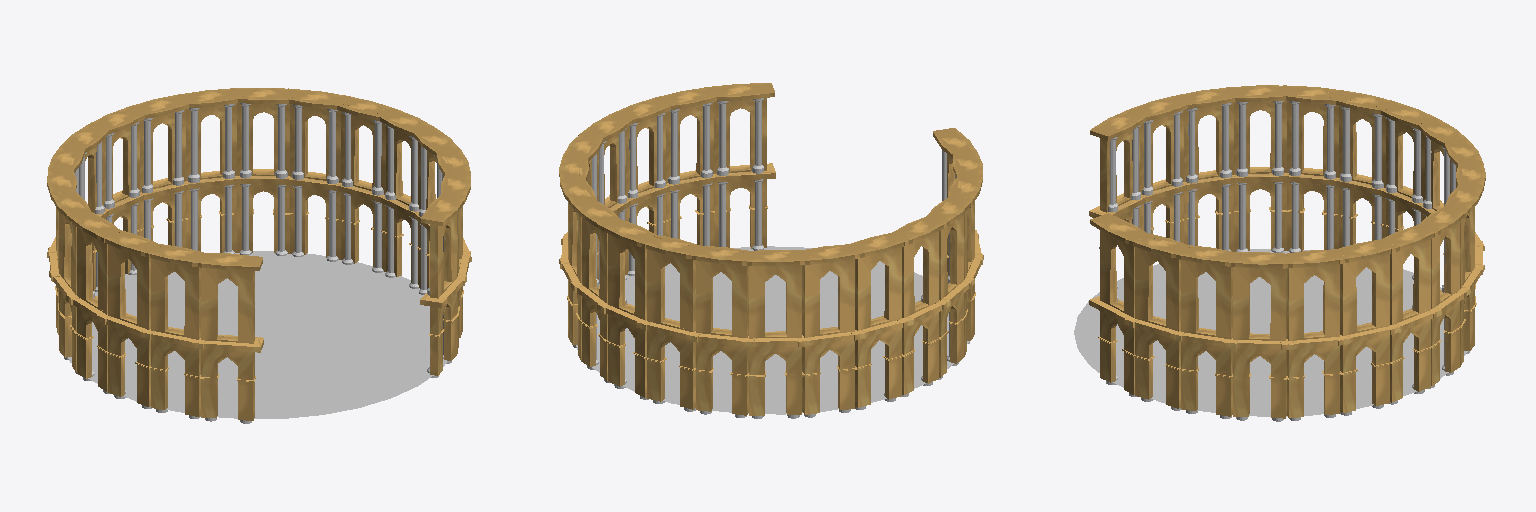
The picture shows the model from 3 angles: view 1: azimuth 30°, elevation 25°; view 2: azimuth 150°, elevation 25°; view 3: azimuth 270°, elevation 25°; orthographic projection.
Parts seen in each view (by area): view 1: Cube; view 2: Cube; view 3: Cube.
Part boxes in pixels (x1,y1,x2,y2): Cube: (47, 88, 471, 423); Cube: (559, 83, 983, 418); Cube: (1074, 85, 1485, 421).
Bounding box in the file's own units: 118 × 49.91 × 115.
3 materials, 1 textured.